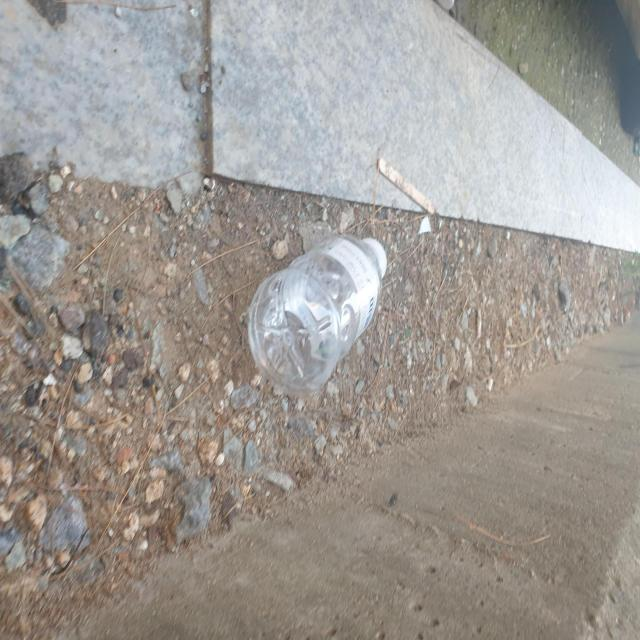plastic: (248, 235, 387, 395)
